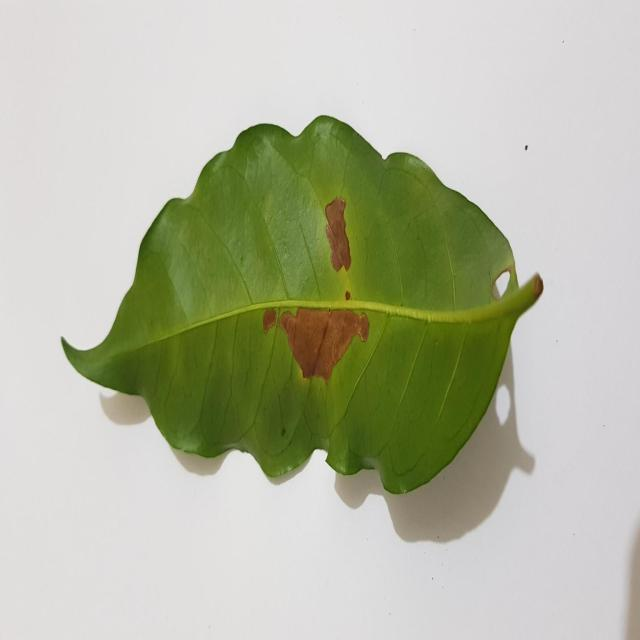miner: (263, 308, 370, 384), (318, 197, 361, 289)
